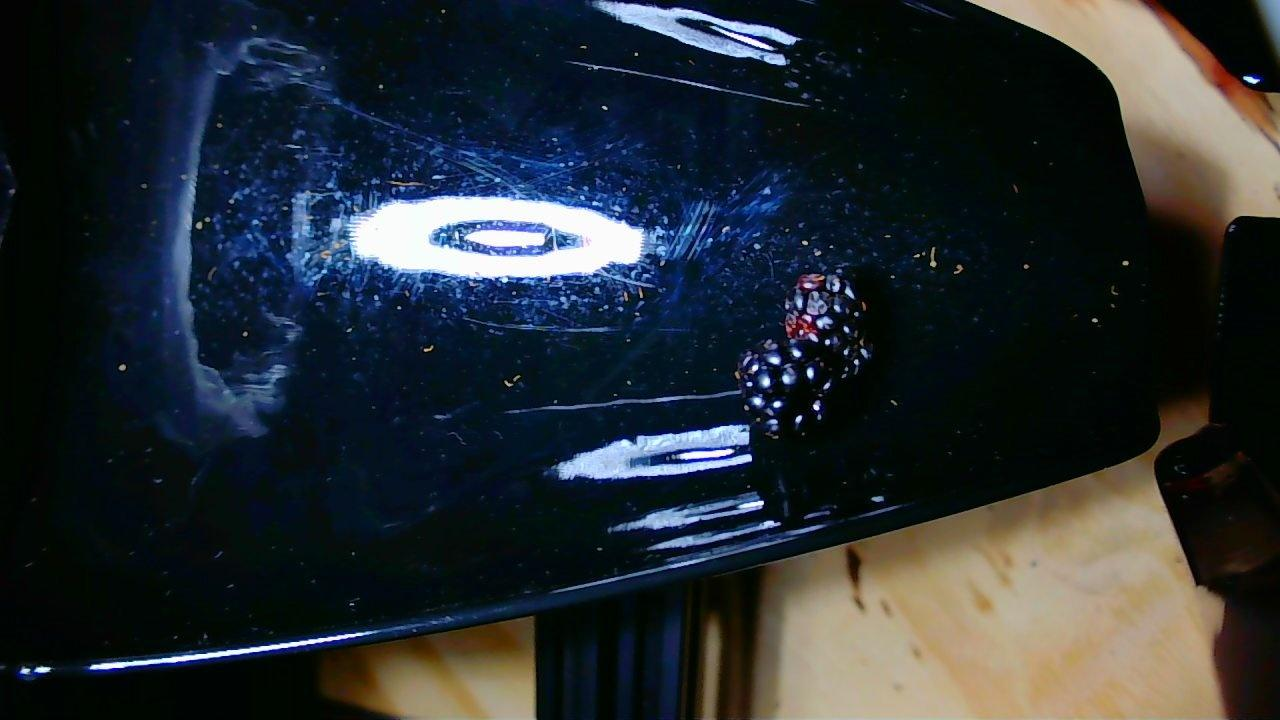berry: (736, 339, 851, 436), (784, 270, 869, 377)
